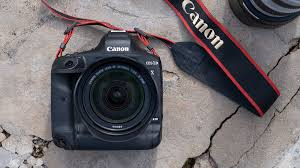camera: (50, 47, 162, 148)
